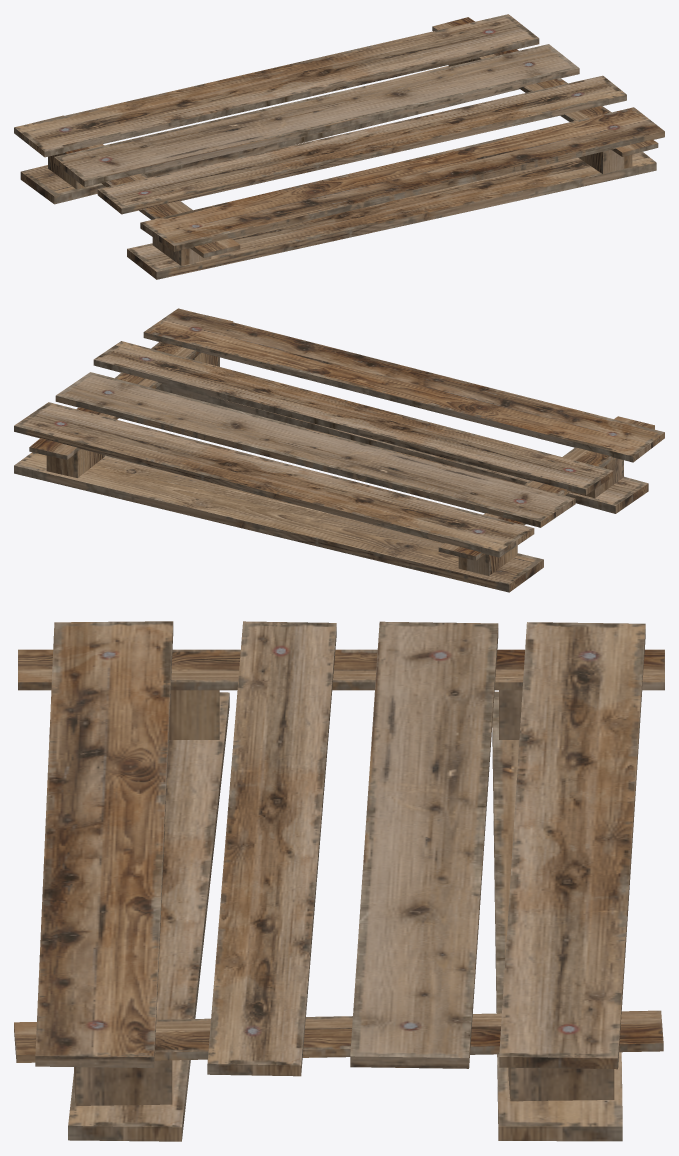
The model's file is MB_Pallet_02.fbx.
3 renders of one model, top to bottom at view 1: azimuth 30°, elevation 25°; view 2: azimuth 150°, elevation 25°; view 3: azimuth 270°, elevation 25°, orthographic. The views are drawn at different scales.
Visible parts, largest first — view 1: MB_Pallet_02; view 2: MB_Pallet_02; view 3: MB_Pallet_02.
Part boxes in pixels (x1,y1,x2,y2): MB_Pallet_02: (14, 14, 664, 279); MB_Pallet_02: (14, 308, 664, 592); MB_Pallet_02: (14, 621, 664, 1141).
Bounding box in the file's own units: 161 × 14.19 × 99.64.
